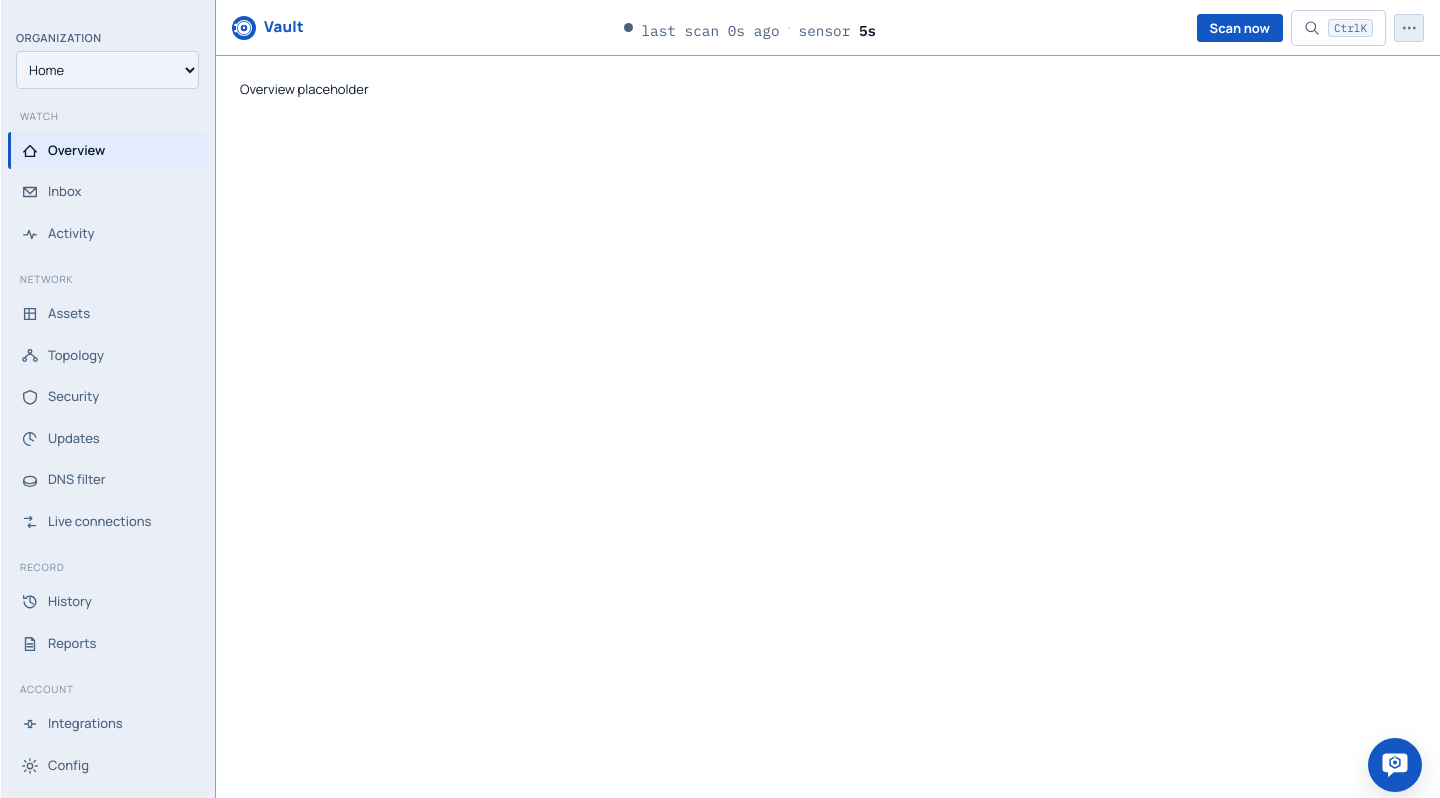
Scenario: Vault chat panel › renders the verdict, bullets and the Next offer
Expected: the text "Overview placeholder" is shown, [240,80,369,98]
Click the button named "toggle vault chat".
click(1395, 765)  # box [1368,738,1422,792]
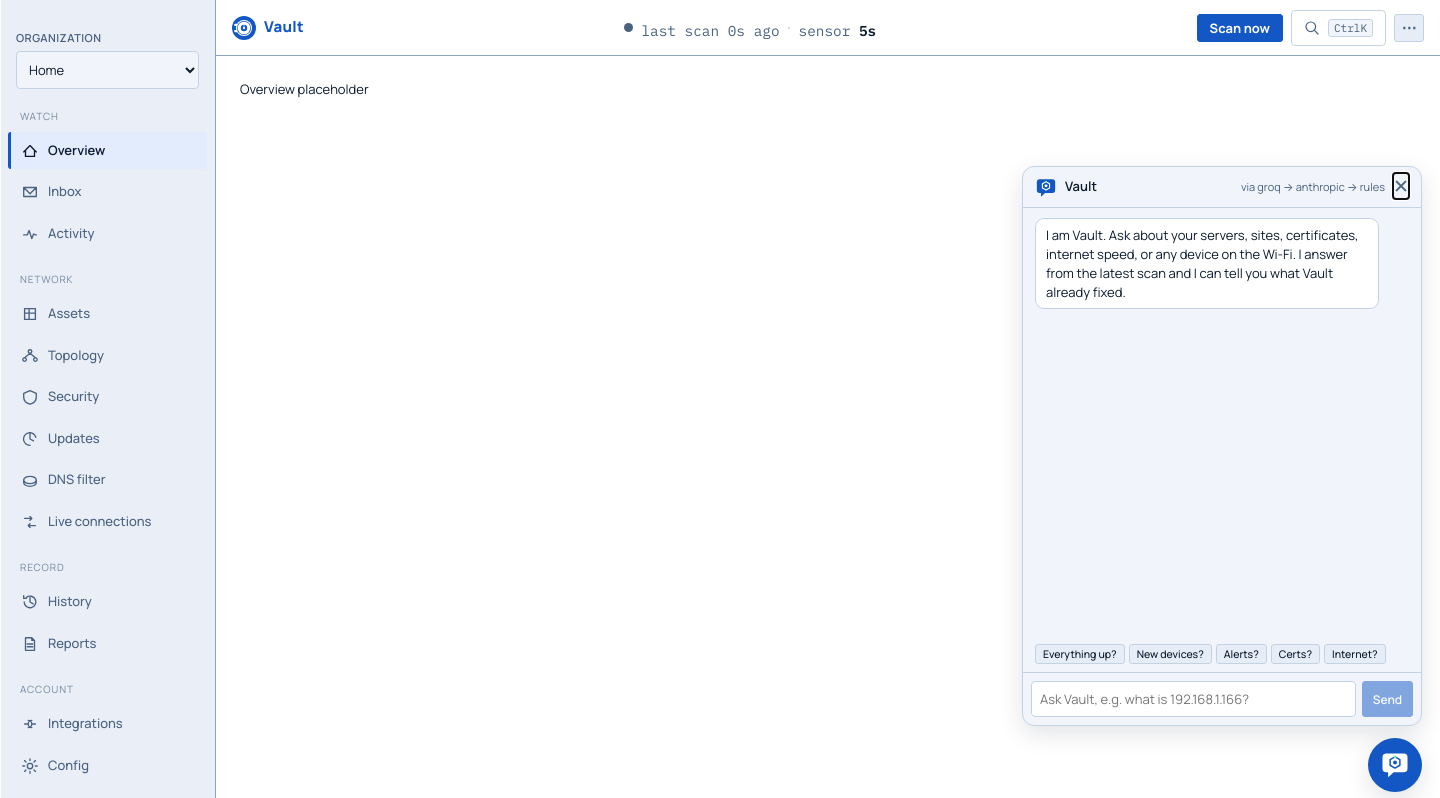
Type "how are things?" into the text box labelled "Ask Vault, e.g. what is 192.168.1.166?".
click(1193, 699); type("how are things?")  # box [1031,681,1356,717]
Then press Enter
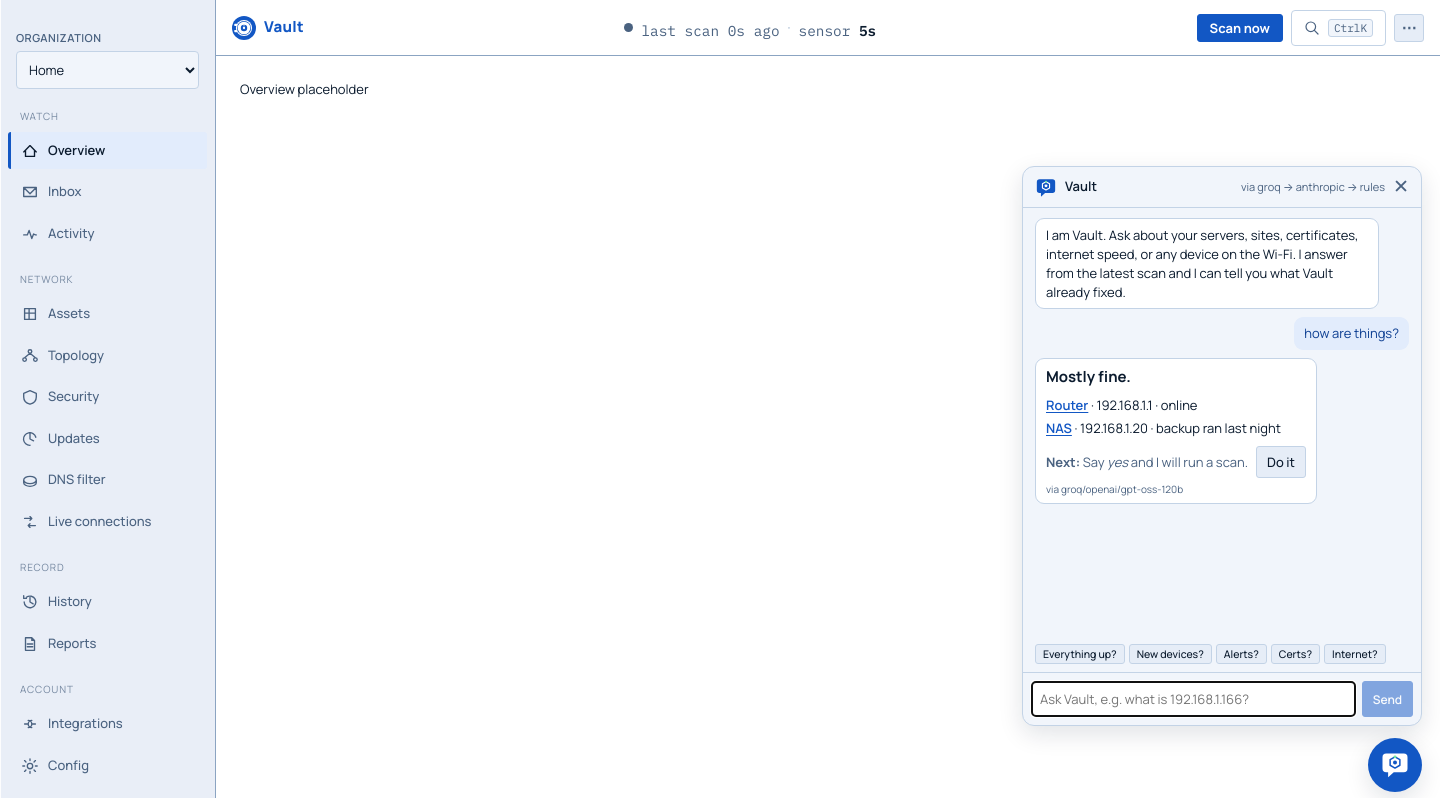
Expected: the heading "Mostly fine." is shown, [1046,366,1131,387]
Expected: the number of list items with test id "chat-bullet" is 2, [1046,396,1198,414]; [1046,419,1306,438]
Expected: the element with test id "chat-next" shows "Say yes and I will run a scan.", [1046,446,1306,478]
